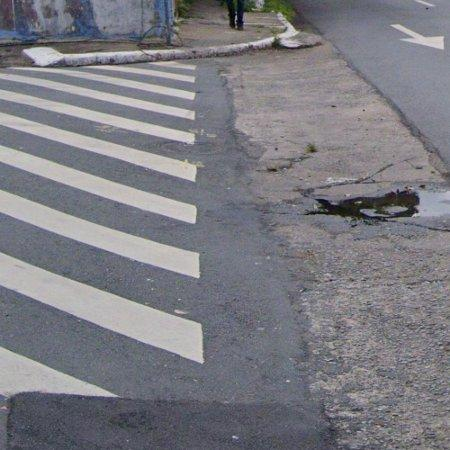crosswalks: (0, 57, 207, 403)
